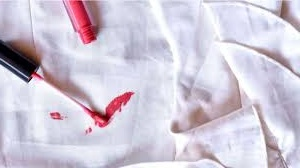lipstick: (101, 92, 137, 121), (91, 112, 112, 131), (49, 109, 64, 123), (82, 126, 90, 134)
